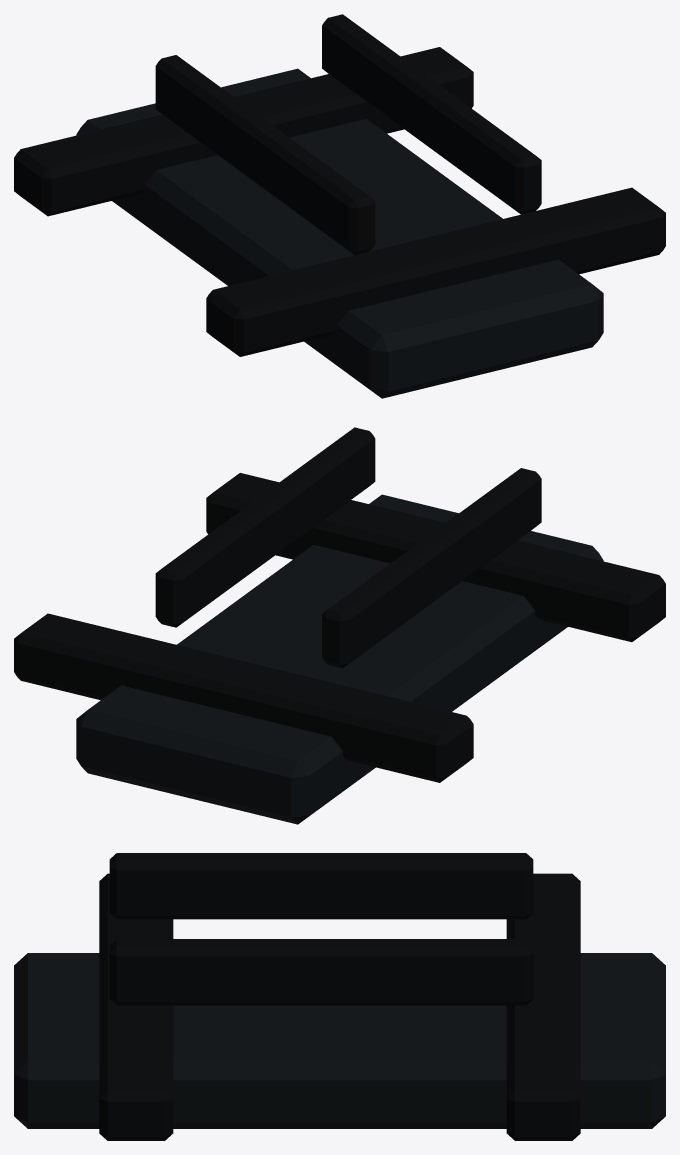
File: PylonHeavy__StoreInterface.obj
3 views of the same model, one above another, from view 1: azimuth 30°, elevation 25°; view 2: azimuth 150°, elevation 25°; view 3: azimuth 270°, elevation 25° (orthographic). The views are drawn at different scales.
Parts seen in each view (by area): view 1: Lower_store_interface, Sway_brace, Sway_brace.001, Store_actuator_cover, Store_actuator_cover.001; view 2: Lower_store_interface, Sway_brace.001, Sway_brace, Store_actuator_cover.001, Store_actuator_cover; view 3: Lower_store_interface, Store_actuator_cover, Store_actuator_cover.001, Sway_brace.001, Sway_brace.
Boxes of the visible parts, x1,y1,x2,y2 form: Lower_store_interface: (76, 68, 603, 398); Sway_brace: (206, 187, 665, 356); Sway_brace.001: (14, 47, 473, 216); Store_actuator_cover: (155, 55, 375, 254); Store_actuator_cover.001: (322, 14, 541, 214); Lower_store_interface: (76, 494, 603, 824); Sway_brace.001: (14, 613, 473, 782); Sway_brace: (206, 473, 665, 642); Store_actuator_cover.001: (155, 427, 375, 627); Store_actuator_cover: (322, 468, 541, 668); Lower_store_interface: (14, 953, 665, 1128); Store_actuator_cover: (109, 853, 533, 919); Store_actuator_cover.001: (109, 939, 533, 1005); Sway_brace.001: (506, 873, 580, 1140); Sway_brace: (99, 873, 173, 1140).
Bounding box in the file's own units: 0.572 × 0.208 × 0.704.
